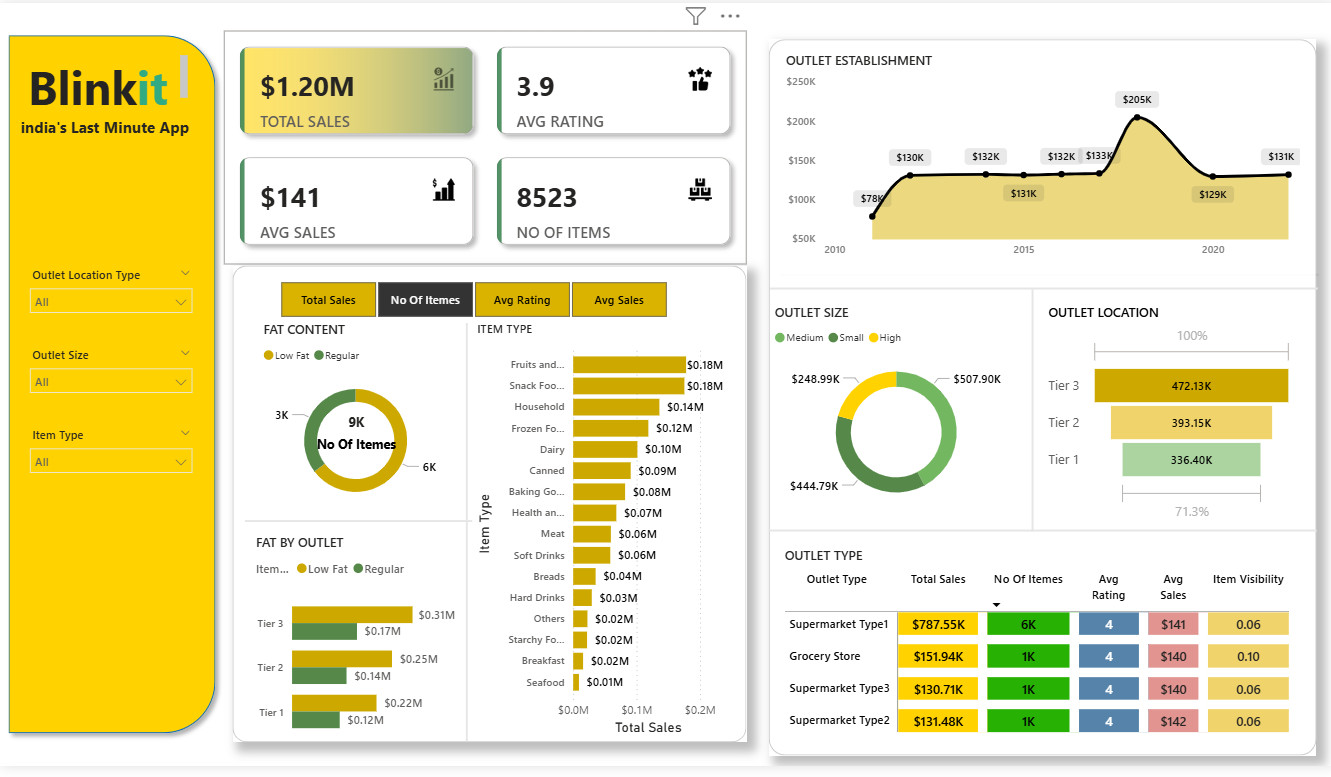

The page's visual inventory and layout, read from the dashboard file:
{"tool":"powerbi","page":{"name":"Page 1","canvas":[1400,800],"ordinal":0},"visuals":[{"type":"shape","box":[0,24.9,234.9,749.8],"z":0},{"type":"textbox","box":[10.9,49.8,191.3,63.8],"z":1000},{"type":"textbox","box":[267.6,74.7,234.9,99.6],"z":2000},{"type":"textbox","box":[10.9,113.6,199.1,35.8],"z":3000},{"type":"cardVisual","fields":{"Data":["BlinkIT Grocery Data.Total Sales","BlinkIT Grocery Data.Avg Rating","BlinkIT Grocery Data.Avg Sales","BlinkIT Grocery Data.No Of Itemes"]},"box":[234.6,29.5,548.3,244],"z":4000},{"type":"shape","box":[244,274.8,538.9,500],"z":5000},{"type":"donutChart","title":" FAT CONTENT","fields":{"Y":["BlinkIT Grocery Data.No Of Itemes"],"Category":["BlinkIT Grocery Data.Item Fat Content"]},"box":[271.4,333,203.6,206.7],"z":6000},{"type":"slicer","fields":{"Values":["Matrices.Matrices"]},"box":[268.3,285.6,454.5,50.5],"z":7000},{"type":"cardVisual","fields":{"Data":["BlinkIT Grocery Data.No Of Itemes"]},"box":[314.2,413.1,118.7,63.1],"z":8000},{"type":"clusteredBarChart","title":"FAT BY OUTLET","fields":{"Y":["BlinkIT Grocery Data.Total Sales"],"Category":["BlinkIT Grocery Data.Outlet Location Type"],"Series":["BlinkIT Grocery Data.Item Fat Content"]},"box":[263.5,555.5,219.3,230.4],"z":9000},{"type":"shape","box":[467.1,336.1,45.8,438.7],"z":10000},{"type":"shape","box":[819,274.6,563.4,22.1],"z":11000},{"type":"clusteredBarChart","title":"ITEM TYPE","fields":{"Category":["BlinkIT Grocery Data.Item Type"],"Y":["BlinkIT Grocery Data.Total Sales"]},"box":[495.5,333,285.6,440.3],"z":12000},{"type":"shape","box":[806.4,37.9,574.4,751.1],"z":13000},{"type":"lineChart","title":"OUTLET ESTABLISHMENT","fields":{"Y":["BlinkIT Grocery Data.Total Sales"],"Category":["BlinkIT Grocery Data.Outlet Establishment Year"]},"box":[819,50.5,549.2,224.1],"z":14000},{"type":"shape","box":[257.2,531.8,238.3,22.1],"z":15000},{"type":"shape","box":[807.9,288.8,574.4,22.1],"z":16000},{"type":"donutChart","title":"OUTLET SIZE","fields":{"Y":["BlinkIT Grocery Data.Total Sales"],"Category":["BlinkIT Grocery Data.Outlet Size"]},"box":[807.9,314,265.1,225.7],"z":17000},{"type":"shape","box":[1071.5,299.8,23.7,254.1],"z":18000},{"type":"funnel","title":"OUTLET LOCATION","fields":{"Y":["Sum(BlinkIT Grocery Data.Sales)"],"Category":["BlinkIT Grocery Data.Outlet Location Type"]},"box":[1095.1,314,266.7,233.5],"z":19000},{"type":"shape","box":[806.4,541.3,574.4,23.7],"z":20000},{"type":"pivotTable","title":"OUTLET TYPE","fields":{"Rows":["BlinkIT Grocery Data.Outlet Type"],"Values":["BlinkIT Grocery Data.Total Sales","BlinkIT Grocery Data.No Of Itemes","BlinkIT Grocery Data.Avg Rating","BlinkIT Grocery Data.Avg Sales","Avg(BlinkIT Grocery Data.Item Visibility)"]},"box":[817.4,569.7,553.9,203.6],"z":21000},{"type":"slicer","fields":{"Values":["BlinkIT Grocery Data.Outlet Location Type"]},"box":[20.5,271.4,190.9,58.4],"z":21001},{"type":"slicer","fields":{"Values":["BlinkIT Grocery Data.Outlet Size"]},"box":[20.5,355.1,190.9,58.4],"z":21002},{"type":"slicer","fields":{"Values":["BlinkIT Grocery Data.Item Type"]},"box":[20.5,438.7,190.9,58.4],"z":21003}]}

Visuals, with their boxes in screenshot pixels (x1, y1, x2, y2), scaled from the page's 1400x800 canvas onto the 1331x777 screenshot:
shape: BBox(0, 24, 223, 752)
textbox: BBox(10, 48, 192, 110)
textbox: BBox(254, 73, 478, 169)
textbox: BBox(10, 110, 200, 145)
cardVisual - BlinkIT Grocery Data.Total Sales x BlinkIT Grocery Data.Avg Rating: BBox(223, 29, 744, 266)
shape: BBox(232, 267, 744, 753)
" FAT CONTENT" donutChart: BBox(258, 323, 452, 524)
slicer - Matrices.Matrices: BBox(255, 277, 687, 326)
cardVisual - BlinkIT Grocery Data.No Of Itemes: BBox(299, 401, 412, 463)
"FAT BY OUTLET" clusteredBarChart: BBox(251, 540, 459, 763)
shape: BBox(444, 326, 488, 753)
shape: BBox(779, 267, 1314, 288)
"ITEM TYPE" clusteredBarChart: BBox(471, 323, 743, 751)
shape: BBox(767, 37, 1313, 766)
"OUTLET ESTABLISHMENT" lineChart: BBox(779, 49, 1301, 267)
shape: BBox(245, 517, 471, 538)
shape: BBox(768, 280, 1314, 302)
"OUTLET SIZE" donutChart: BBox(768, 305, 1020, 524)
shape: BBox(1019, 291, 1041, 538)
"OUTLET LOCATION" funnel: BBox(1041, 305, 1295, 532)
shape: BBox(767, 526, 1313, 549)
"OUTLET TYPE" pivotTable: BBox(777, 553, 1304, 751)
slicer - BlinkIT Grocery Data.Outlet Location Type: BBox(19, 264, 201, 320)
slicer - BlinkIT Grocery Data.Outlet Size: BBox(19, 345, 201, 402)
slicer - BlinkIT Grocery Data.Item Type: BBox(19, 426, 201, 483)
